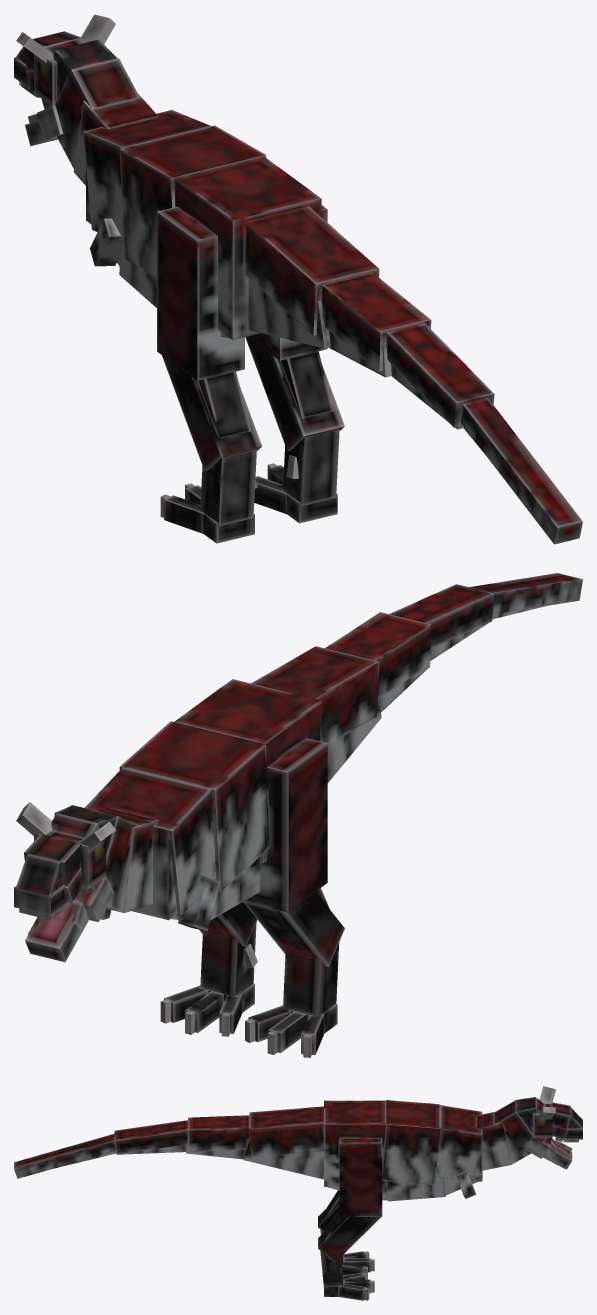
The picture shows the model from 3 angles, top to bottom: view 1: azimuth 30°, elevation 25°; view 2: azimuth 150°, elevation 25°; view 3: azimuth 270°, elevation 25°; orthographic projection. The views are drawn at different scales.
Parts seen in each view (by area): view 1: _gltfNode_133, _gltfNode_96, _gltfNode_66, _gltfNode_139, _gltfNode_51, _gltfNode_61, _gltfNode_56, _gltfNode_145, _gltfNode_44, _gltfNode_119, _gltfNode_91, _gltfNode_86 (+16 smaller); view 2: _gltfNode_139, _gltfNode_96, _gltfNode_145, _gltfNode_133, _gltfNode_66, _gltfNode_61, _gltfNode_91, _gltfNode_56, _gltfNode_86, _gltfNode_51, _gltfNode_114, _gltfNode_42 (+20 smaller); view 3: _gltfNode_139, _gltfNode_124, _gltfNode_66, _gltfNode_133, _gltfNode_145, _gltfNode_61, _gltfNode_51, _gltfNode_56, _gltfNode_68, _gltfNode_42, _gltfNode_119, _gltfNode_44 (+11 smaller).
Part boxes in pixels (x1,y1,x2,y2): _gltfNode_133: (174,155,321,339); _gltfNode_96: (157,206,244,380); _gltfNode_66: (245,206,379,335); _gltfNode_139: (119,125,266,276); _gltfNode_51: (461,398,582,544); _gltfNode_61: (321,273,431,371); _gltfNode_56: (386,323,494,427); _gltfNode_145: (83,110,211,242); _gltfNode_44: (55,58,139,168); _gltfNode_119: (245,336,344,451); _gltfNode_91: (162,355,261,471); _gltfNode_86: (200,449,256,526); _gltfNode_139: (119,721,269,892); _gltfNode_96: (243,738,327,912); _gltfNode_145: (84,767,216,916); _gltfNode_133: (174,679,321,863); _gltfNode_66: (251,646,379,744); _gltfNode_61: (325,612,431,698); _gltfNode_91: (243,892,344,966); _gltfNode_56: (389,584,494,648); _gltfNode_86: (283,942,339,1016); _gltfNode_51: (469,573,582,614); _gltfNode_114: (200,922,256,996); _gltfNode_42: (97,807,158,912); _gltfNode_139: (382,1100,440,1184); _gltfNode_124: (339,1138,382,1216); _gltfNode_66: (249,1106,323,1156); _gltfNode_133: (324,1100,386,1186); _gltfNode_145: (435,1105,482,1183); _gltfNode_61: (188,1115,250,1151); _gltfNode_51: (14,1134,115,1178); _gltfNode_56: (114,1120,188,1154); _gltfNode_68: (243,1137,323,1179); _gltfNode_42: (476,1112,512,1170); _gltfNode_119: (318,1217,380,1262); _gltfNode_44: (494,1099,533,1163).
Size of the model in its own units: 1.49 by 3.28 by 9.16.
1 material, 1 textured.
